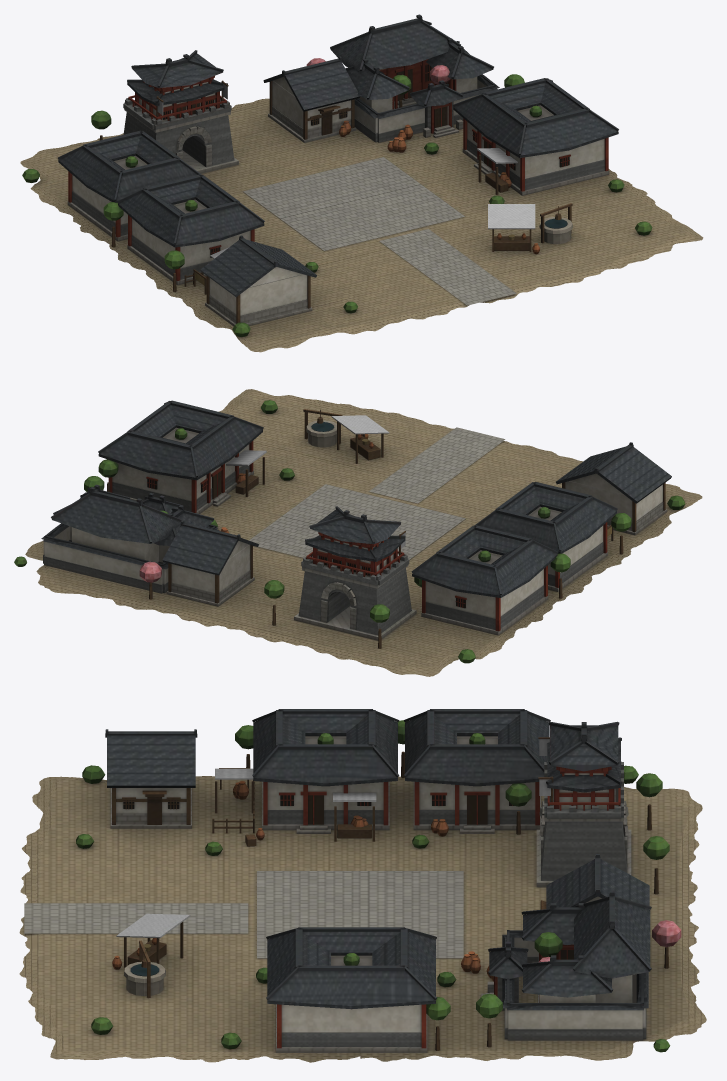
Rendered from classical-town-small-a-sinic.glb.
3 renders of one model, top to bottom at view 1: azimuth 30°, elevation 25°; view 2: azimuth 150°, elevation 25°; view 3: azimuth 270°, elevation 25°, orthographic. The views are drawn at different scales.
Visible parts, largest first — view 1: LOD0; view 2: LOD0; view 3: LOD0.
Part boxes in pixels (x1,y1,x2,y2): LOD0: [20, 14, 703, 352]; LOD0: [14, 389, 702, 676]; LOD0: [19, 709, 706, 1062].
Size of what is drawn, in the model's own units: 4.02 by 0.878 by 4.06.
Materials: 3 (3 with a texture image).
